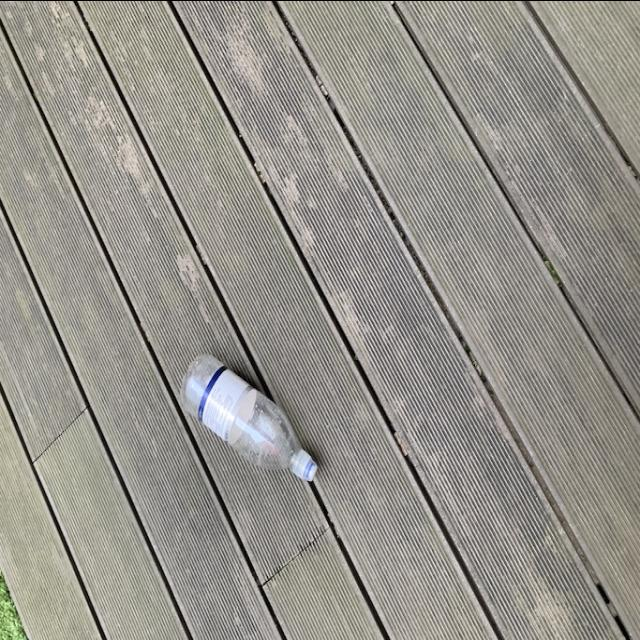PET: (180, 348, 320, 482)
